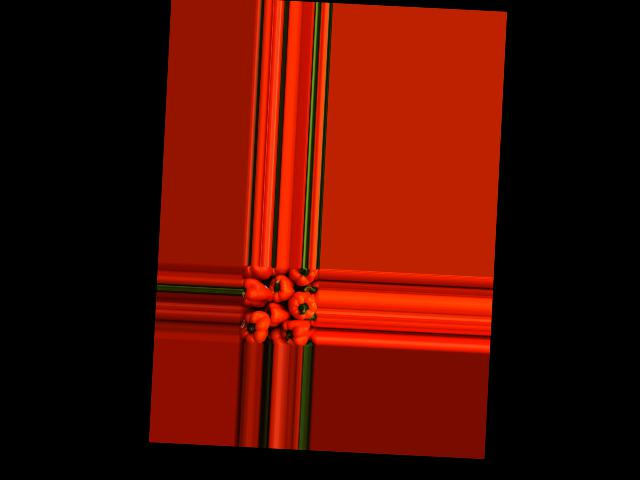bell_pepper: (241, 265, 272, 279)
